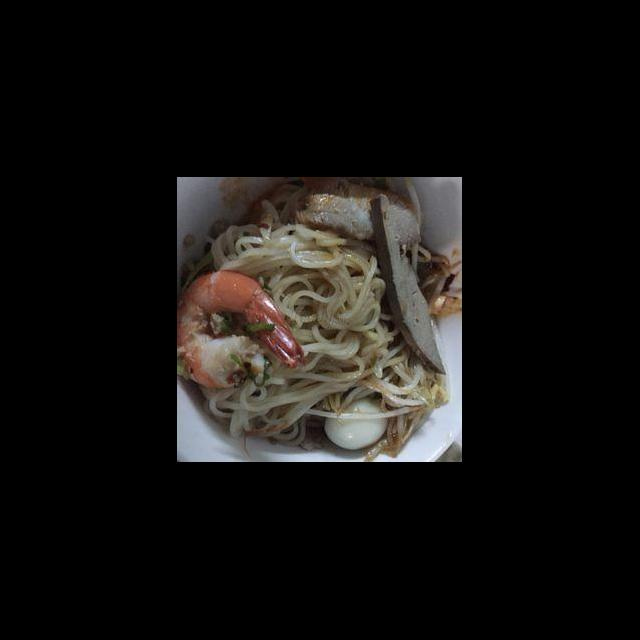banh hu tieu: (208, 196, 402, 440)
gan: (368, 192, 448, 380)
hu tieu: (178, 192, 462, 462)
thit heo: (292, 180, 424, 256)
tom: (178, 267, 310, 393)
trung: (322, 394, 392, 454)
